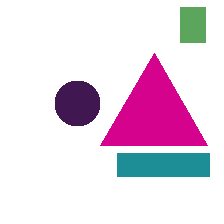circle: (55, 81, 99, 125)
rectangle: (117, 153, 209, 176), (180, 7, 205, 42)
triangle: (100, 53, 207, 145)
